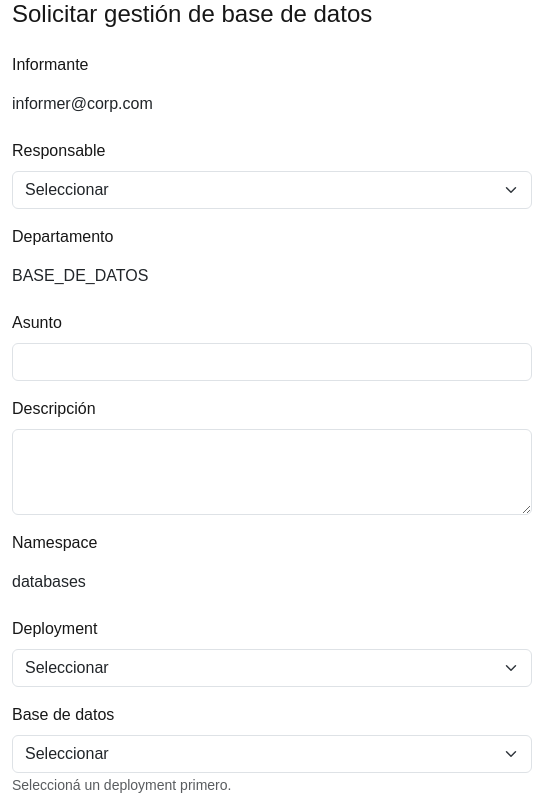
Test case: DatabaseManagementTicketForm › disables the submit button until the form is valid
Select "Ana" in the dropdown labelled "Responsable" at x=272, y=190, box 12,171 -> 532,209
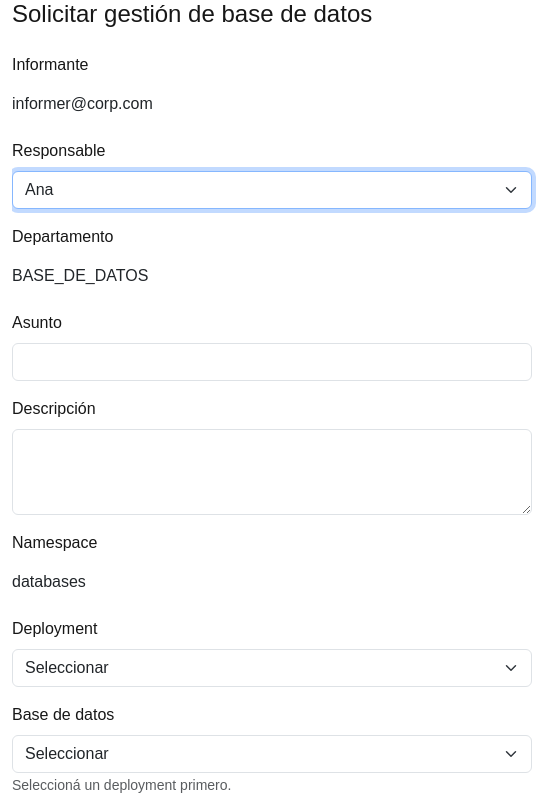
Type "Add index" into the field labelled "Asunto" at x=272, y=362, box 12,343 -> 532,381
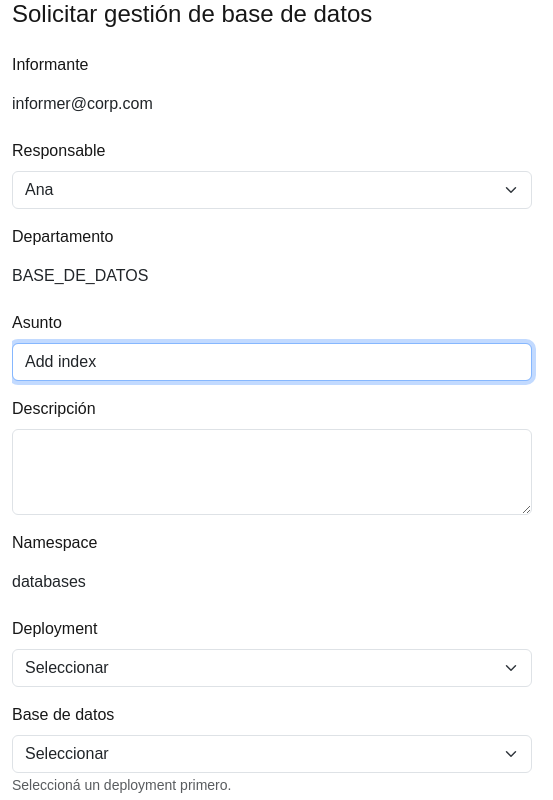
Type "Needs an index" into the text box labelled "Descripción" at x=272, y=472, box 12,429 -> 532,515
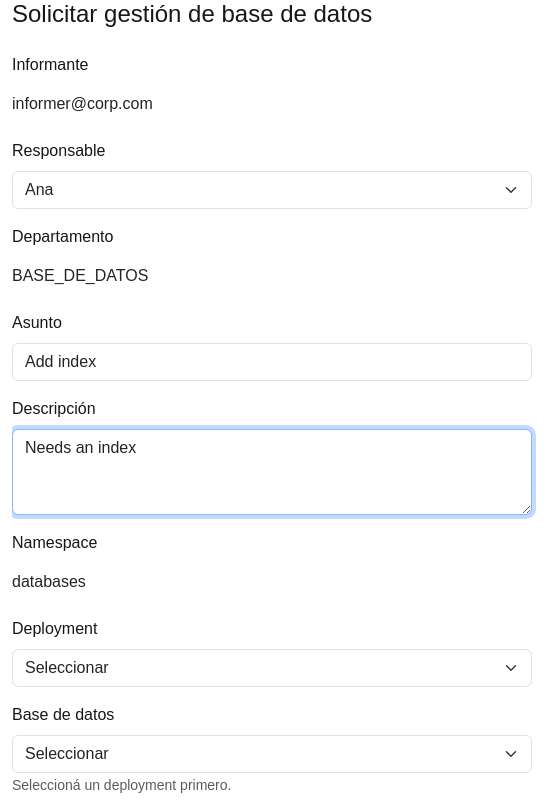
Select "pg-main" in the dropdown labelled "Deployment" at x=272, y=668, box 12,649 -> 532,687
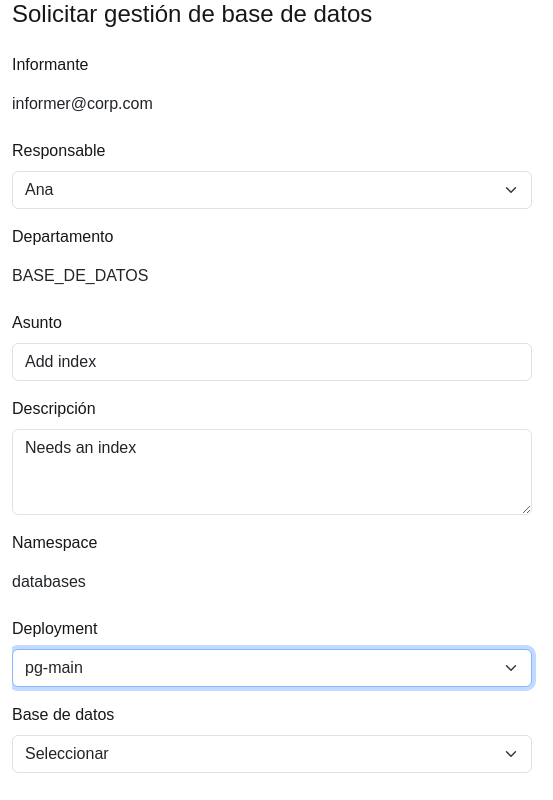
Select "orders" in the dropdown labelled "Base de datos" at x=272, y=754, box 12,735 -> 532,773
(page scrolled)
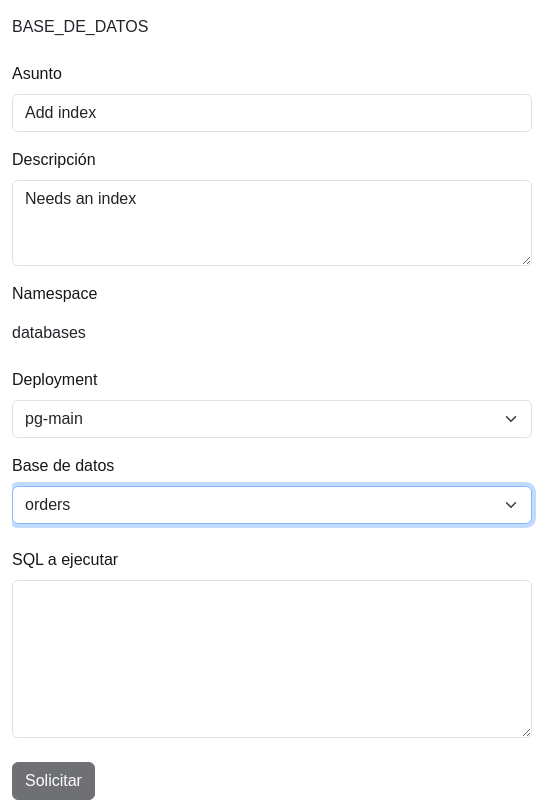
Type "select 1" into the text box labelled "SQL a ejecutar" at x=272, y=659, box 12,580 -> 532,738
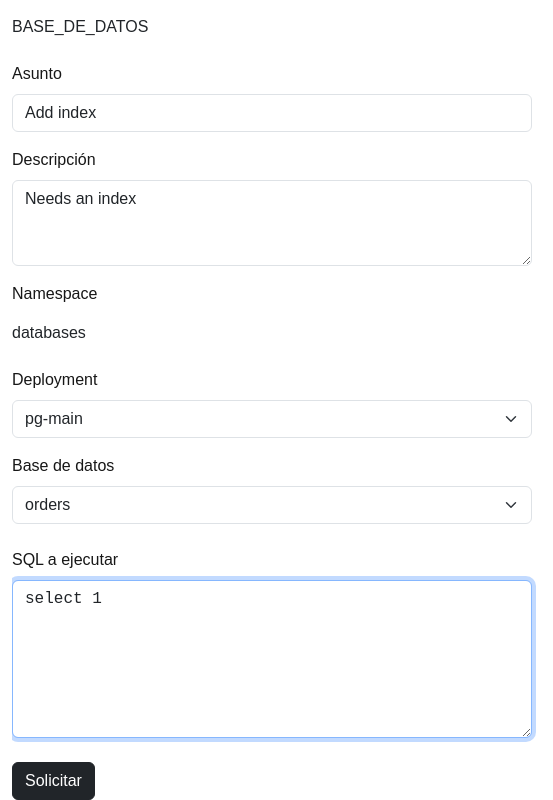
Expected: the button "Solicitar" is enabled, 12,762 -> 95,799
